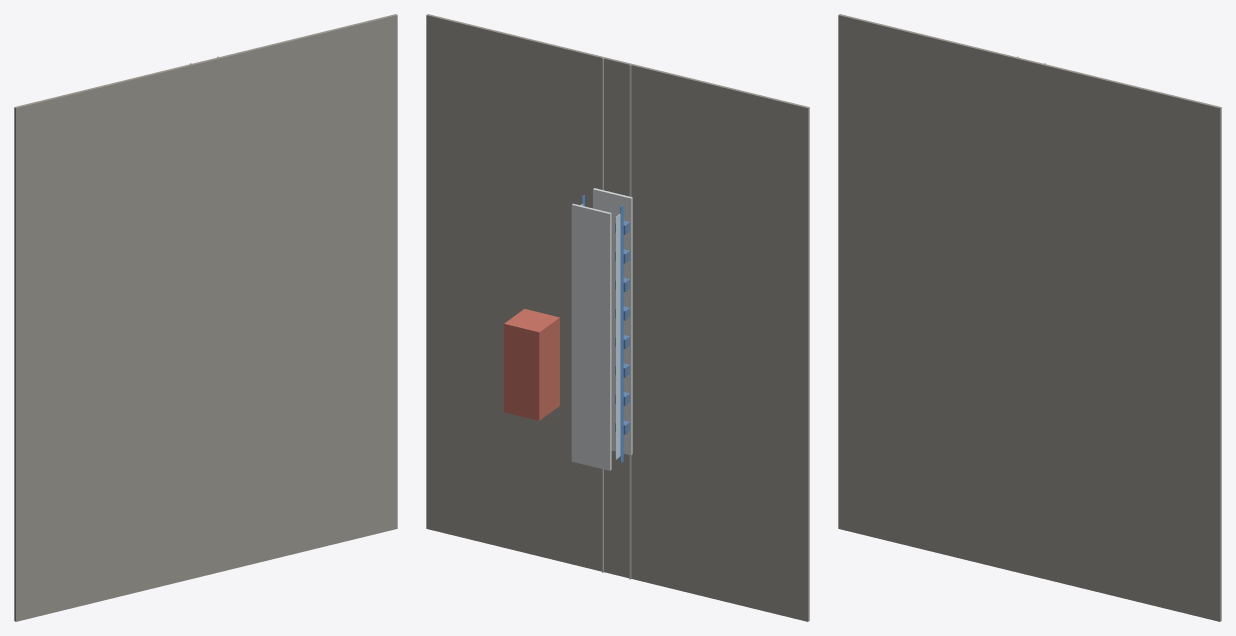
Rendered from train_carriage.glb.
3 views of the same model, side by side, from view 1: azimuth 30°, elevation 25°; view 2: azimuth 150°, elevation 25°; view 3: azimuth 330°, elevation 25° (orthographic).
Parts seen in each view (by area): view 1: TrainCarriageGLB; view 2: TrainCarriageGLB; view 3: TrainCarriageGLB.
Part boxes in pixels (box(x1,y1,x2,y2)): TrainCarriageGLB: box(14, 14, 397, 621); TrainCarriageGLB: box(426, 14, 809, 621); TrainCarriageGLB: box(838, 14, 1221, 621).
Bounding box in the file's own units: 28 × 36 × 3.55.
